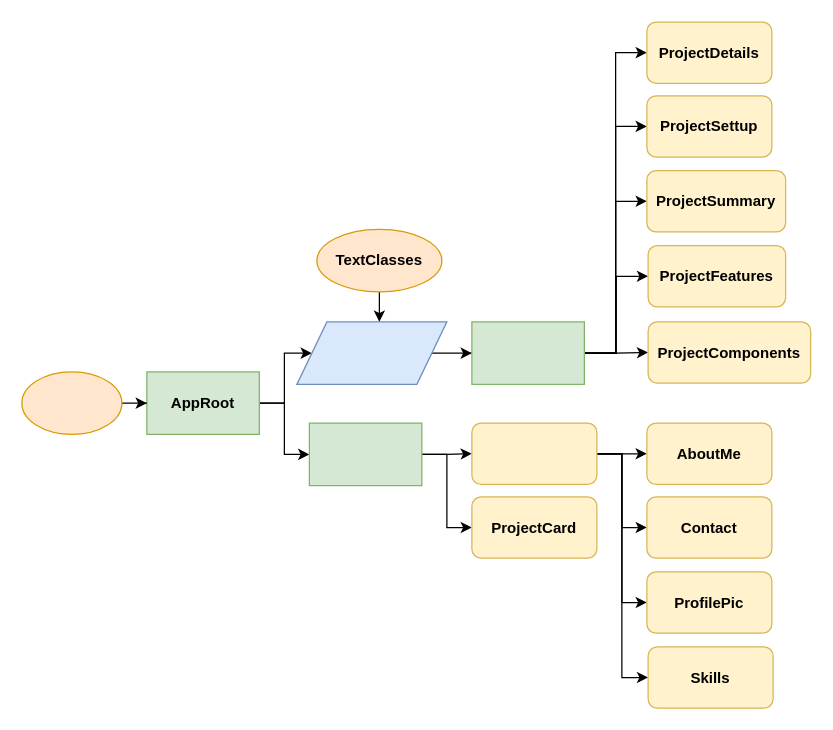
This 833x730 diagram has some shape labels left out. Each missing label, with the box of its shape:
BusinessCard: (471, 422, 597, 484)
HomePage: (308, 422, 422, 486)
index.html: (21, 371, 122, 434)
ProjectPage: (471, 321, 584, 384)
ProjectRouter: (296, 321, 447, 384)
